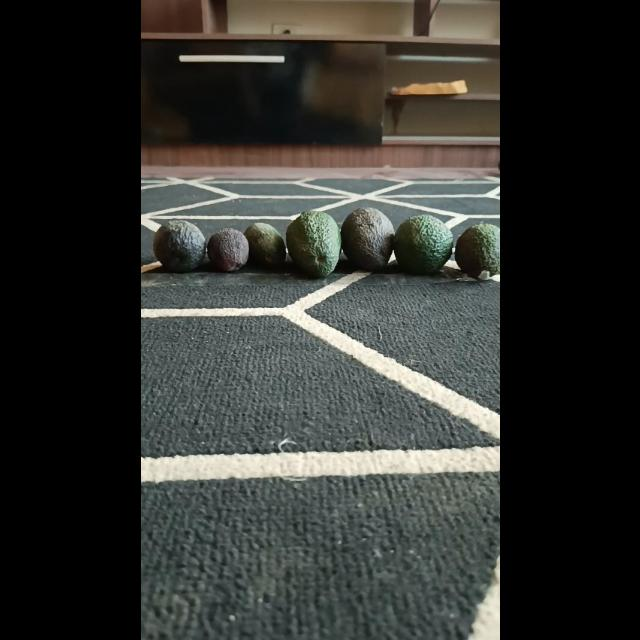Primera: (284, 210, 340, 278), (392, 215, 453, 275), (339, 207, 395, 271)
Segunda: (153, 220, 205, 272), (454, 222, 498, 280)
Tercera: (206, 228, 248, 272), (243, 223, 285, 267)
